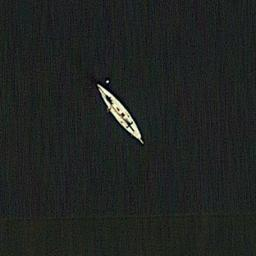boat: (97, 84, 144, 146)
